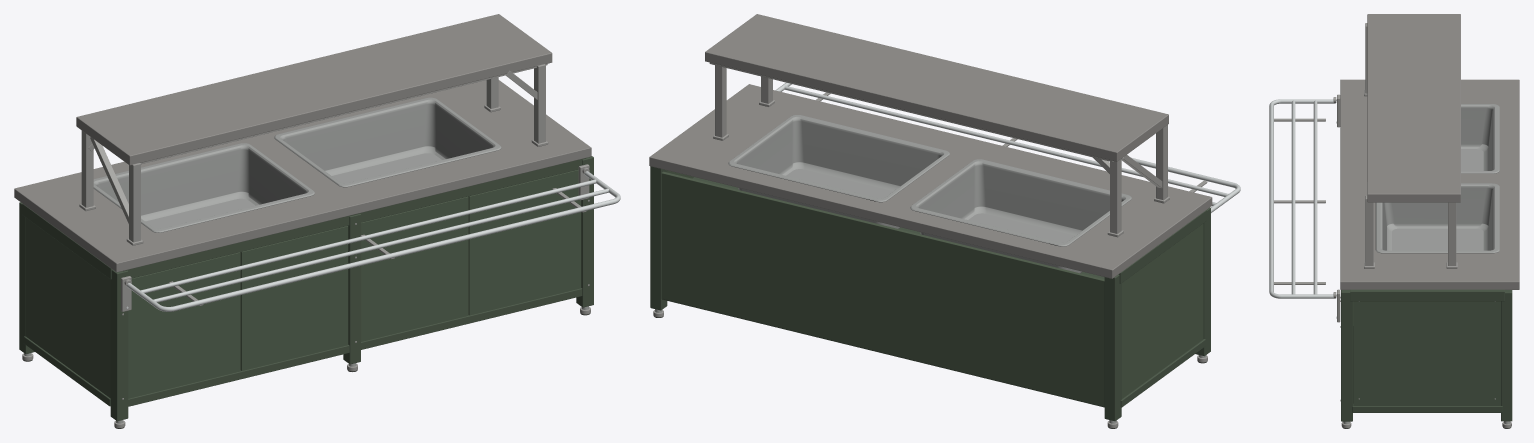
File: mess_serving_counter.glb
3 views of the same model, side by side, from view 1: azimuth 30°, elevation 25°; view 2: azimuth 150°, elevation 25°; view 3: azimuth 270°, elevation 25° (orthographic). The views are drawn at different scales.
Parts seen in each view (by area): view 1: OverheadStainlessShelf, StainlessWorktop, FrontServicePanel_04, FrontServicePanel_01, FrontServicePanel_02, FrontServicePanel_03, InsetServingWell_02, InsetServingWell_01, LeftSidePanel, FrontTopApron, TraySlideOuterBentRail, FrontUpright_01 (+14 smaller); view 2: RearEnclosure, StainlessWorktop, OverheadStainlessShelf, InsetServingWell_02, InsetServingWell_01, LeftSidePanel, RearUpright_01, TraySlideInnerRail_02, RearUpright_02, FrontUpright_01, LeftUpperSideRail, ShelfPost_L_Rear (+6 smaller); view 3: OverheadStainlessShelf, StainlessWorktop, RightSidePanel, InsetServingWell_02, InsetServingWell_01, RightUpperSideRail, FrontUpright_03, TraySlideOuterBentRail, RearUpright_02, RightLowerSideRail, TraySlideInnerRail_01, TraySlideInnerRail_02 (+2 smaller).
Part boxes in pixels (x1,y1,x2,y2): OverheadStainlessShelf: (76, 14, 552, 165); StainlessWorktop: (14, 80, 591, 272); FrontServicePanel_04: (468, 169, 581, 315); FrontServicePanel_01: (128, 252, 240, 398); FrontServicePanel_02: (240, 226, 348, 370); FrontServicePanel_03: (361, 196, 468, 341); InsetServingWell_02: (274, 97, 501, 187); InsetServingWell_01: (93, 143, 314, 232); LeftSidePanel: (26, 218, 110, 398); FrontTopApron: (123, 158, 586, 278); TraySlideOuterBentRail: (126, 171, 620, 311); FrontUpright_01: (110, 269, 128, 421); RearEnclosure: (661, 171, 1104, 406); StainlessWorktop: (649, 84, 1212, 278); OverheadStainlessShelf: (705, 14, 1168, 161); InsetServingWell_02: (728, 115, 949, 228); InsetServingWell_01: (910, 159, 1131, 273); LeftSidePanel: (1121, 223, 1203, 398); RearUpright_01: (1104, 274, 1121, 421); TraySlideInnerRail_02: (784, 85, 1228, 196); RearUpright_02: (650, 166, 667, 310); FrontUpright_01: (1195, 207, 1210, 356); LeftUpperSideRail: (1119, 210, 1206, 283); ShelfPost_L_Rear: (1110, 159, 1121, 233); OverheadStainlessShelf: (1367, 14, 1460, 202); StainlessWorktop: (1340, 79, 1519, 289); RightSidePanel: (1353, 301, 1500, 405); InsetServingWell_02: (1375, 183, 1499, 253); InsetServingWell_01: (1461, 104, 1499, 173); RightUpperSideRail: (1350, 289, 1504, 301); FrontUpright_03: (1341, 290, 1352, 421); TraySlideOuterBentRail: (1269, 99, 1335, 298); RearUpright_02: (1501, 290, 1512, 421); RightLowerSideRail: (1352, 404, 1502, 412); TraySlideInnerRail_01: (1313, 100, 1317, 294); TraySlideInnerRail_02: (1291, 100, 1295, 294).
Size of the model in its own units: 3.7 by 1.89 by 1.91.
Materials: 11 (4 with a texture image).
